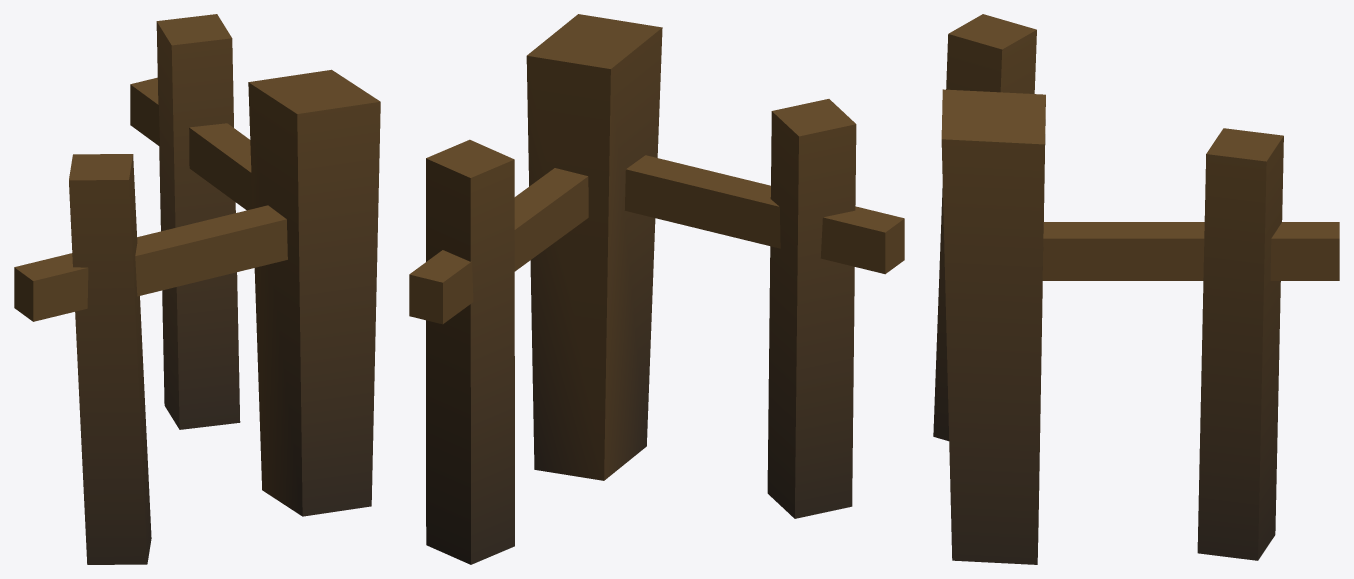
File: Barriere_Corner.glb
3 renders of one model, left to right at view 1: azimuth 30°, elevation 25°; view 2: azimuth 150°, elevation 25°; view 3: azimuth 270°, elevation 25°, orthographic. The views are drawn at different scales.
Visible parts, largest first — view 1: Plane.404; view 2: Plane.404; view 3: Plane.404.
Boxes of the visible parts, <box> form: Plane.404: <box>14,14,380,564</box>; Plane.404: <box>409,14,904,564</box>; Plane.404: <box>933,14,1339,564</box>.
Size of the model in its own units: 0.5745 by 0.6877 by 0.5819.
